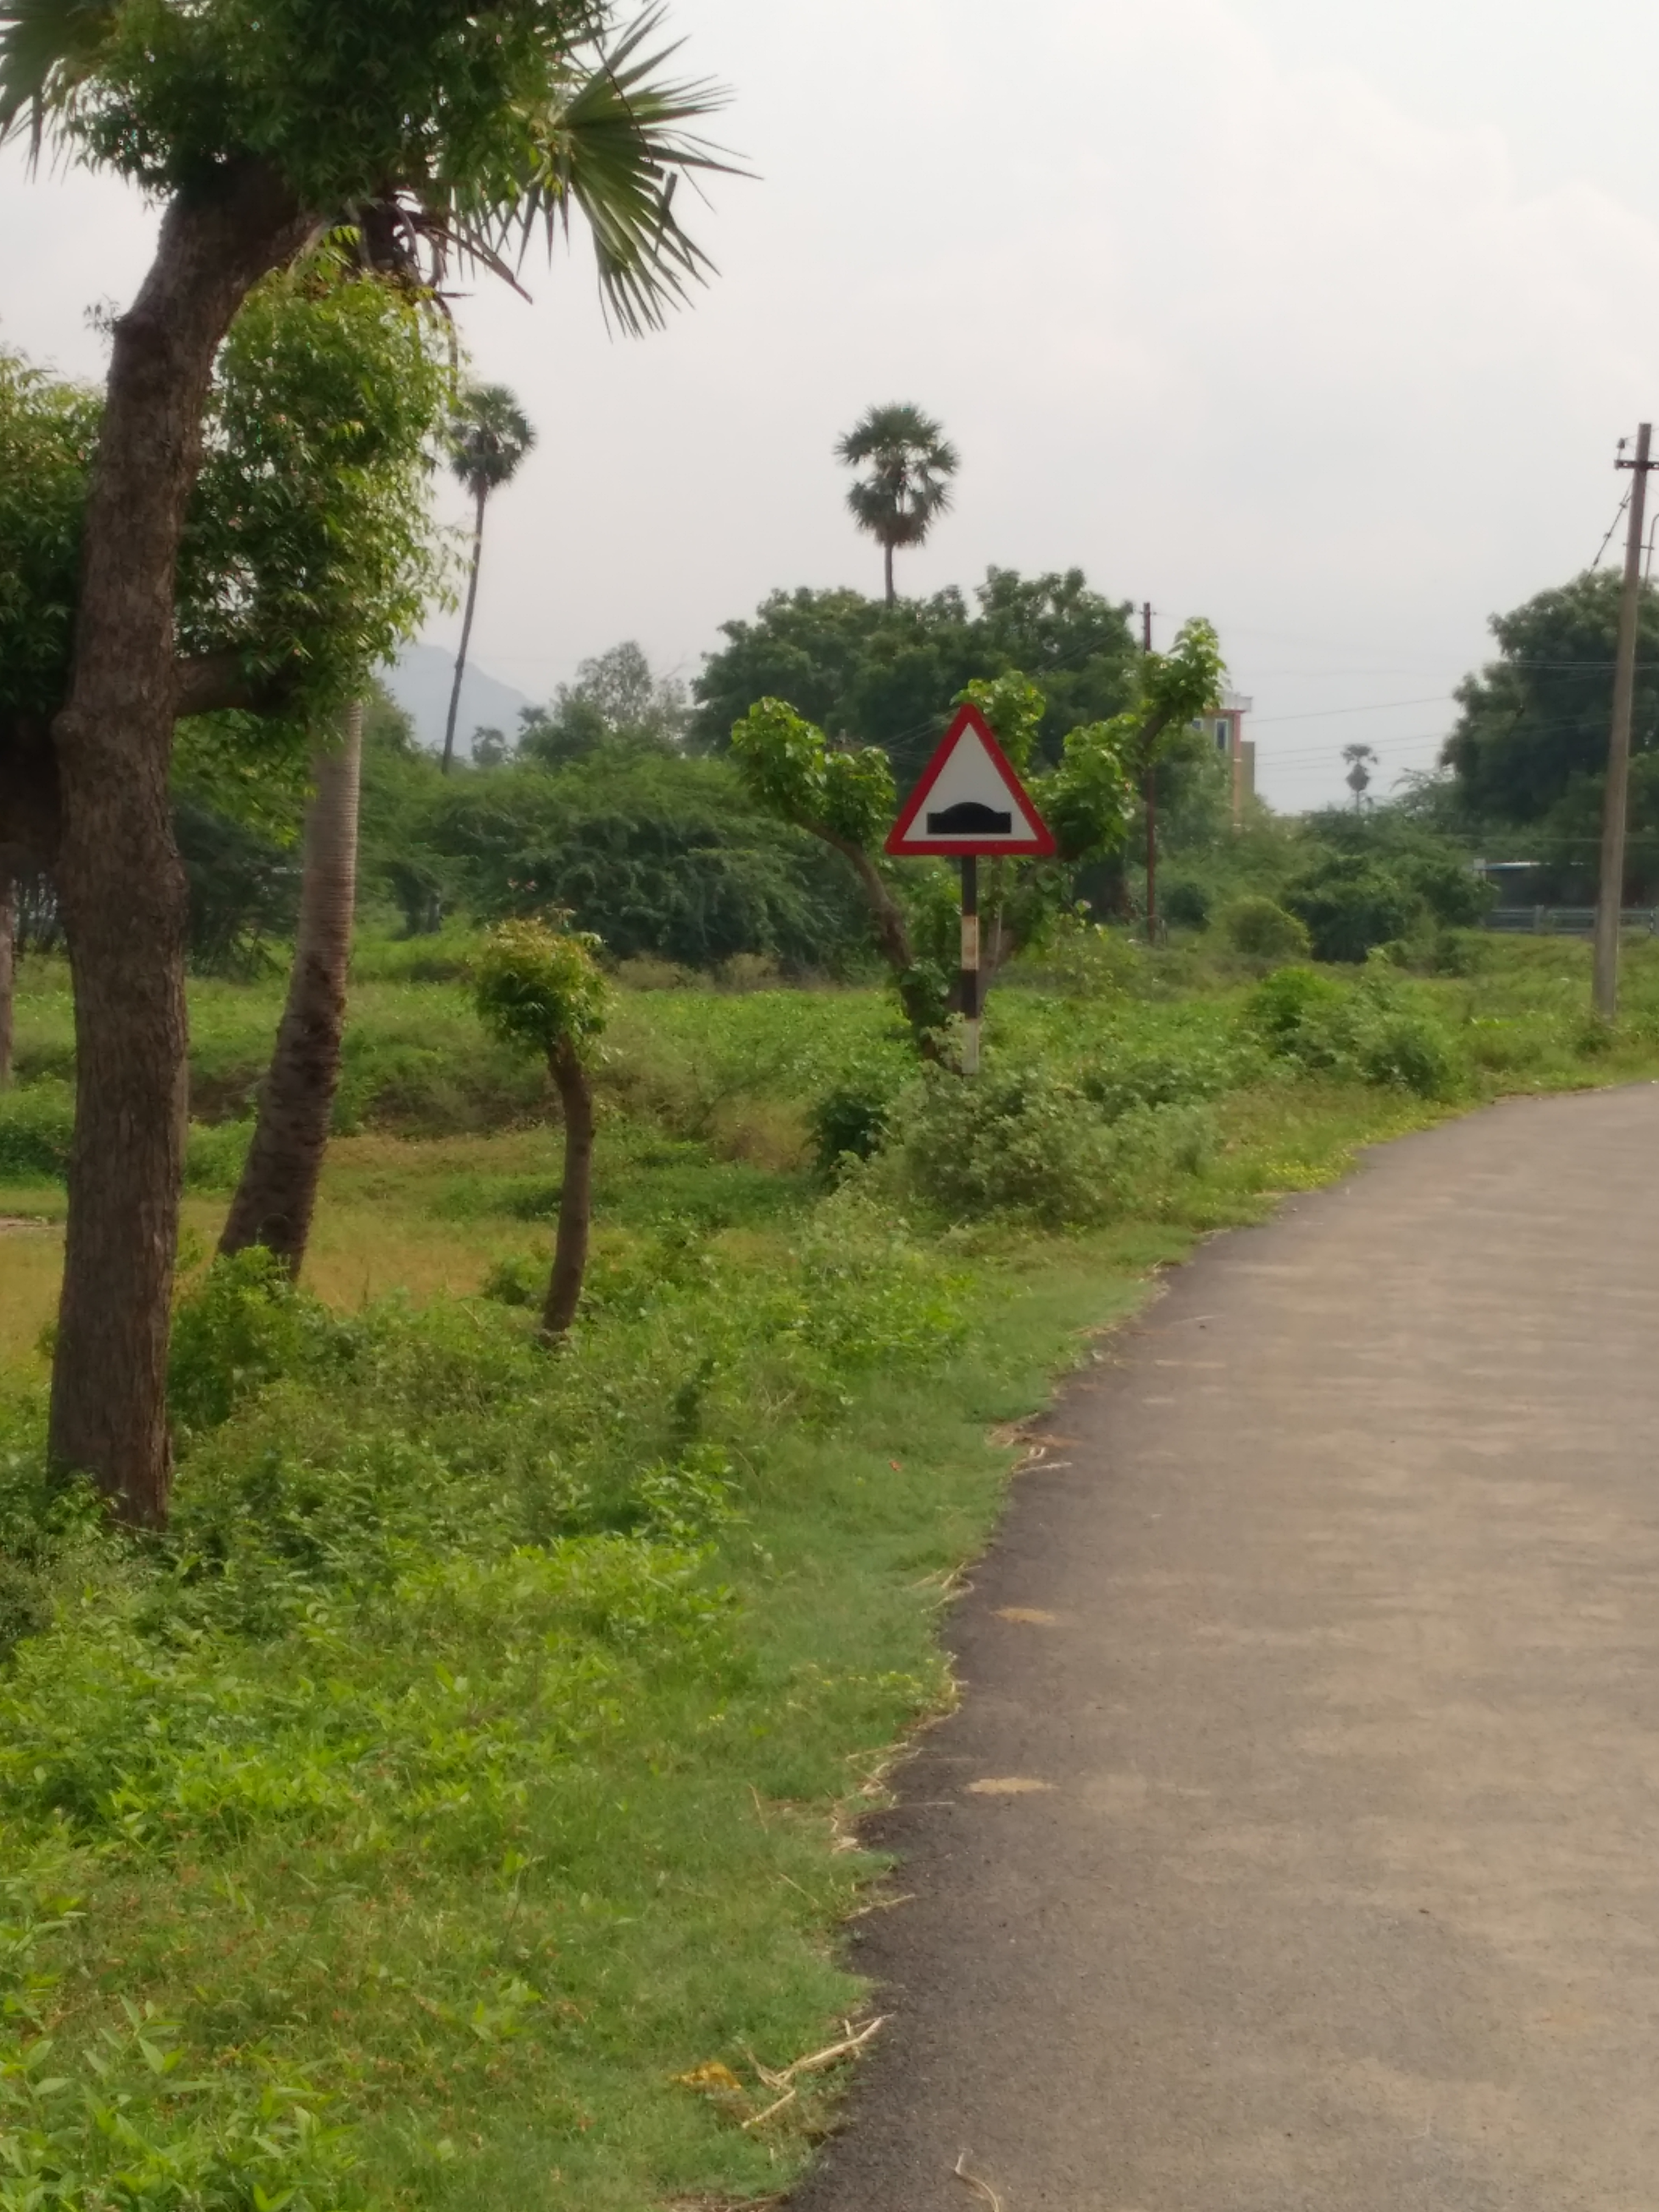traffic_sign: (885, 705, 1056, 855)
